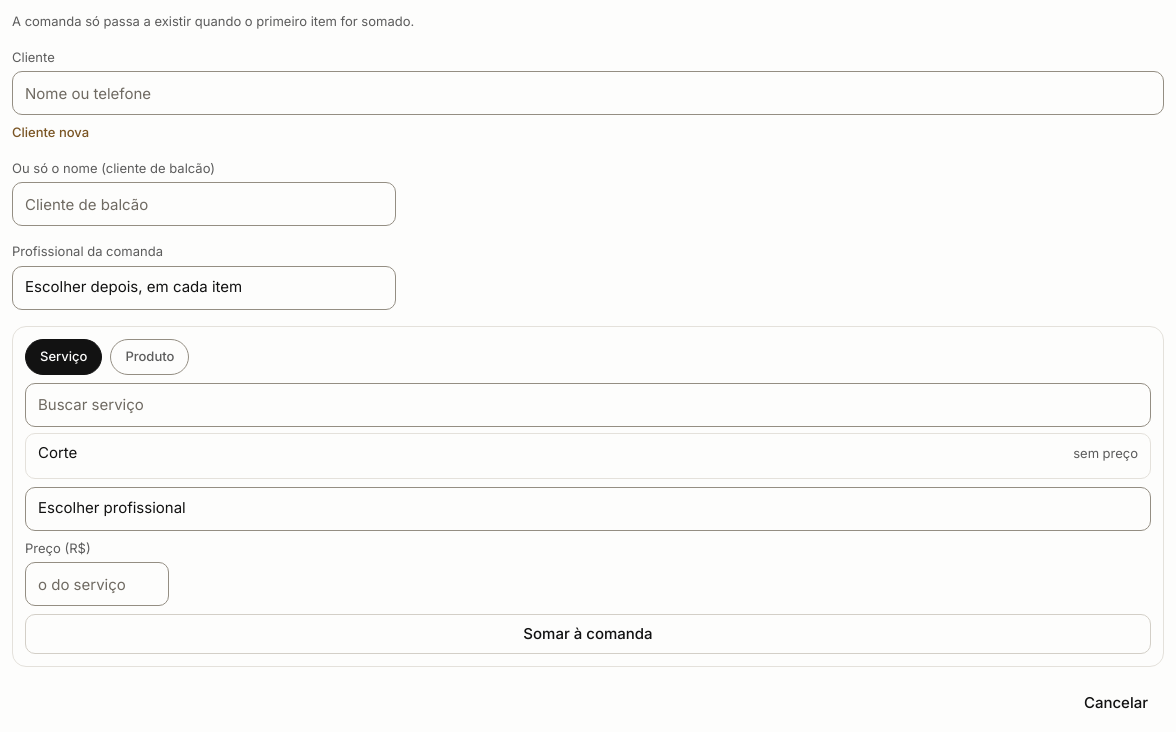
Scenario: o servidor recusa o item: o erro aparece e nada é criado
The width and height of the screenshot is (1176, 732).
Type "cor" into the dropdown labelled "serviço" at [588, 404], box [25, 382, 1151, 426]
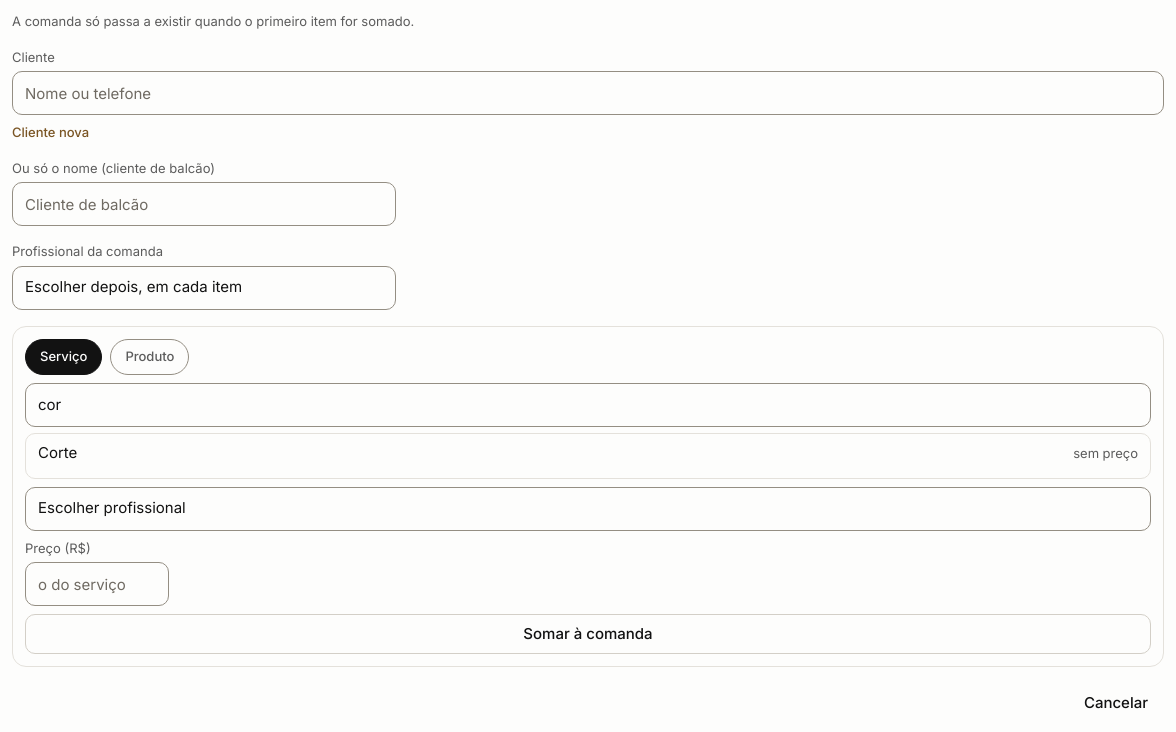
Click the option "Corte sem preço" at [58, 452], box [26, 434, 1150, 478]
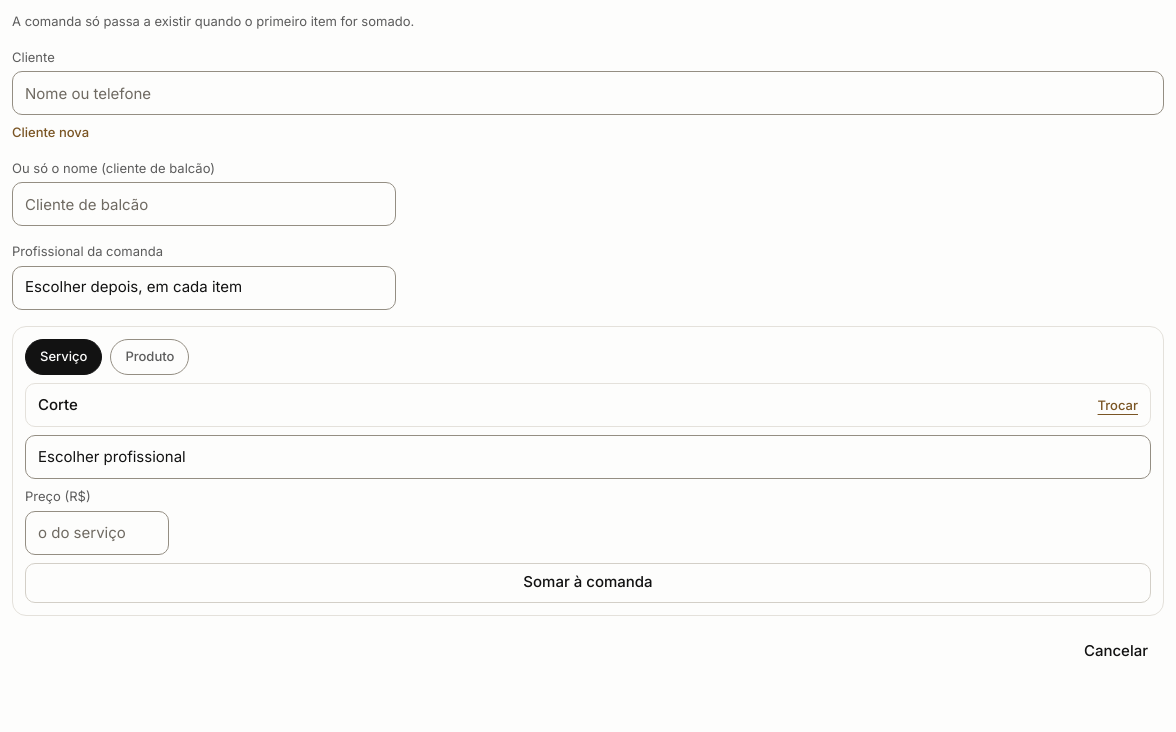
Click the button "Somar à comanda" at [588, 582], box [25, 562, 1151, 602]
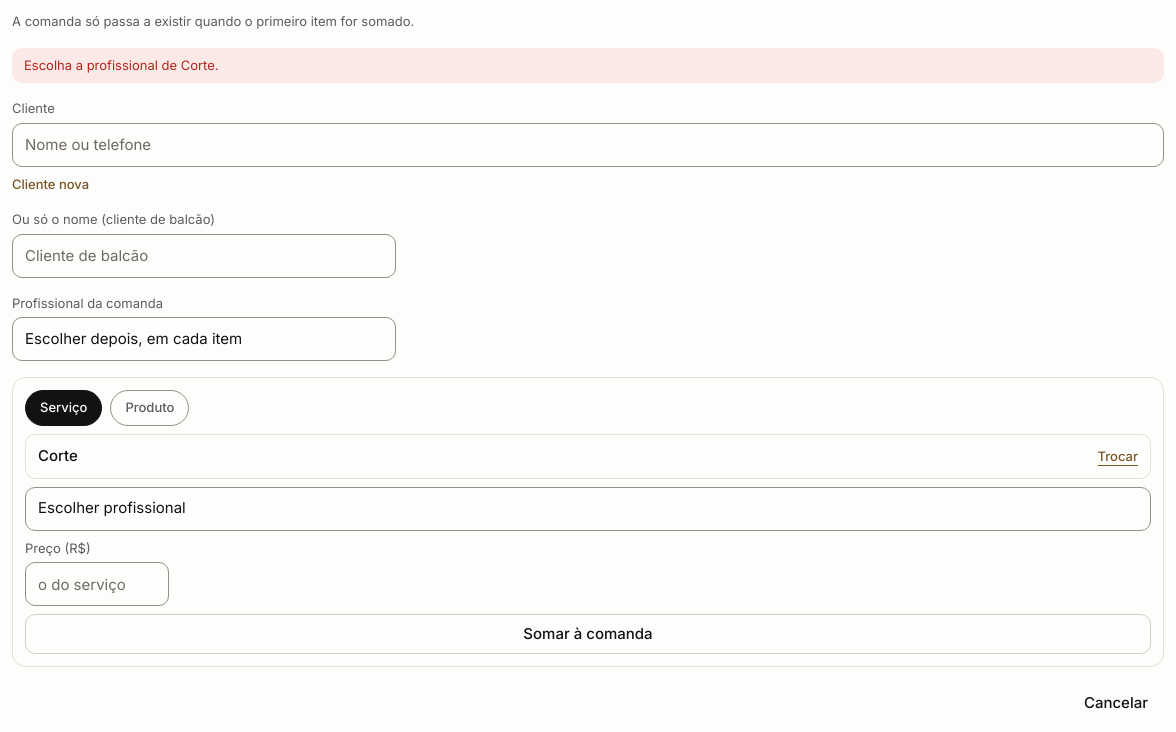
Result: the message reads "Escolha a profissional de Corte." at [24, 56, 218, 72]
